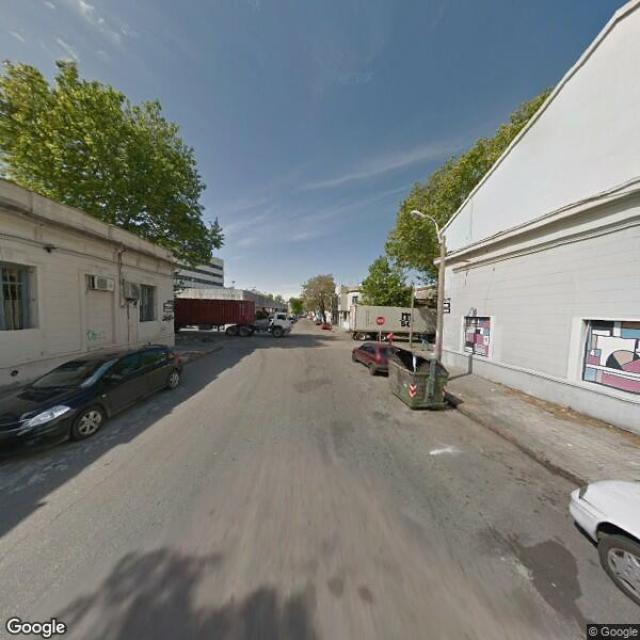garbage container: (384, 349, 462, 422)
